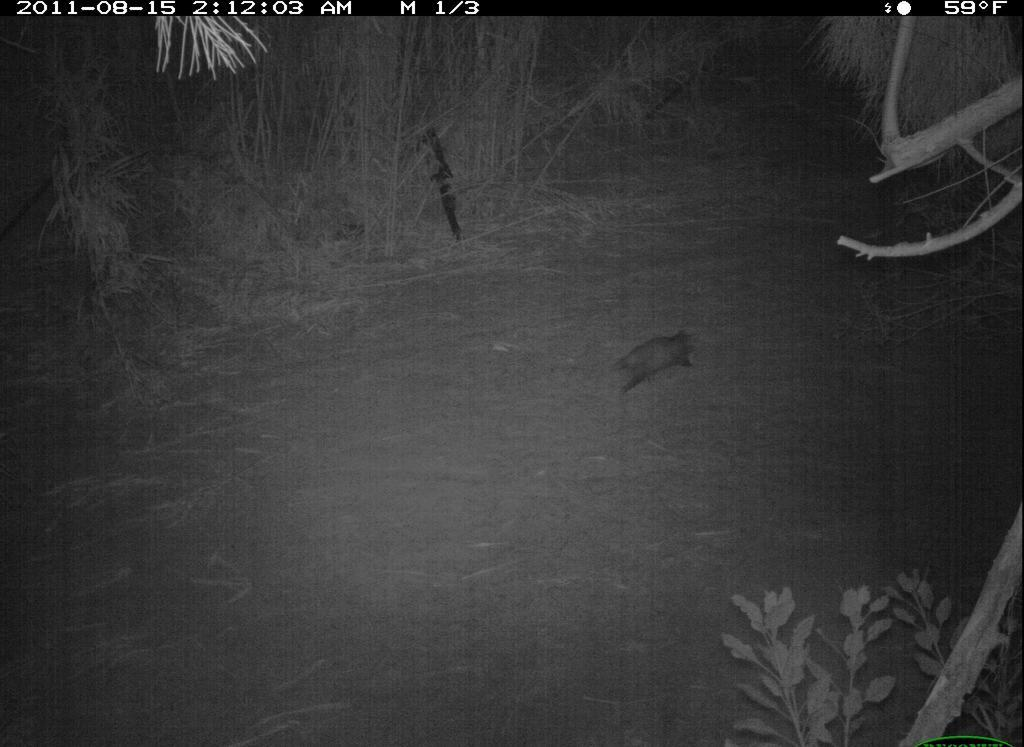opossum: (591, 319, 707, 410)
